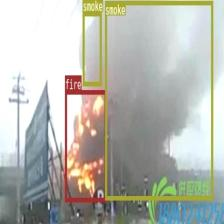fire: (65, 89, 106, 201)
smoke: (104, 1, 212, 199), (82, 12, 101, 85)
